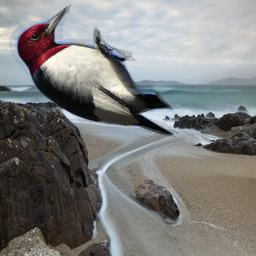Woodpecker: (8, 4, 184, 138)
